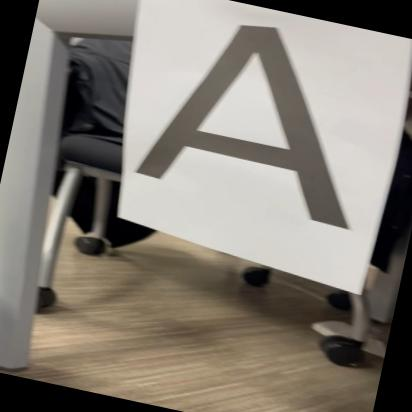seat: (120, 3, 412, 252)
